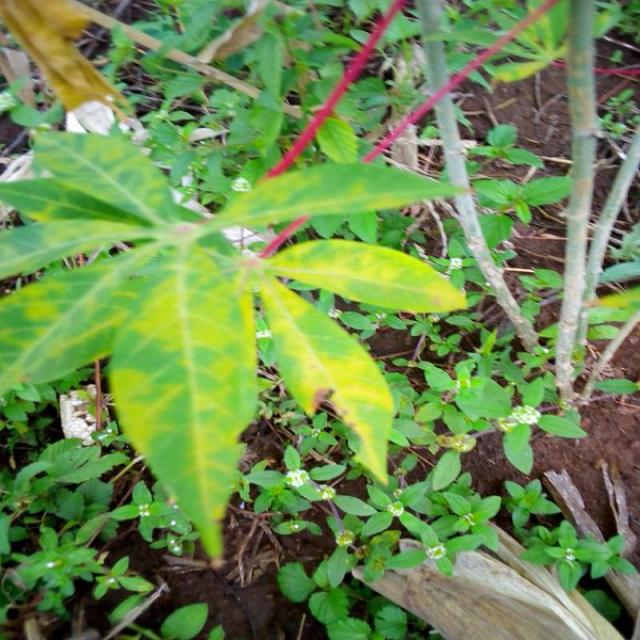cassava leaf: (2, 128, 470, 562), (106, 226, 260, 562)
